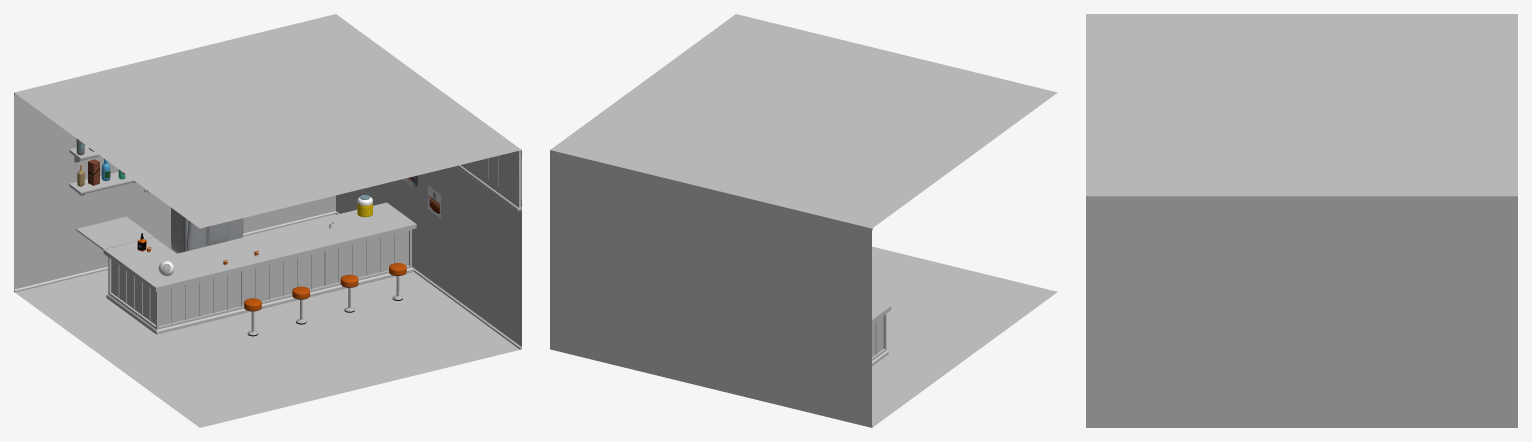
Rendered from Bar.fbx.
The picture shows the model from 3 angles, left to right: view 1: azimuth 30°, elevation 25°; view 2: azimuth 150°, elevation 25°; view 3: azimuth 270°, elevation 25°; orthographic projection. The views are drawn at different scales.
Parts seen in each view (by area): view 1: Base room, Cube.020, Cube.021, Cube.023, Cube.039, Cylinder.003, Base room.001, fridge door, Cube.002, Cube.005; view 2: Base room, Base room.001, Cube.020; view 3: Base room.
Part boxes in pixels (x1,y1,x2,y2): Base room: (14,14,521,427); Cube.020: (103,202,416,334); Cube.021: (111,230,408,326); Cube.023: (460,150,521,207); Cube.039: (76,216,153,249); Cylinder.003: (244,263,406,336); Base room.001: (14,93,521,349); fridge door: (186,218,243,250); Cube.002: (171,207,188,253); Cube.005: (69,172,135,194); Base room: (550,14,1057,427); Base room.001: (550,228,872,427); Cube.020: (872,301,891,366); Base room: (1086,14,1517,427).
Bounding box in the file's own units: 700 × 414 × 700.
